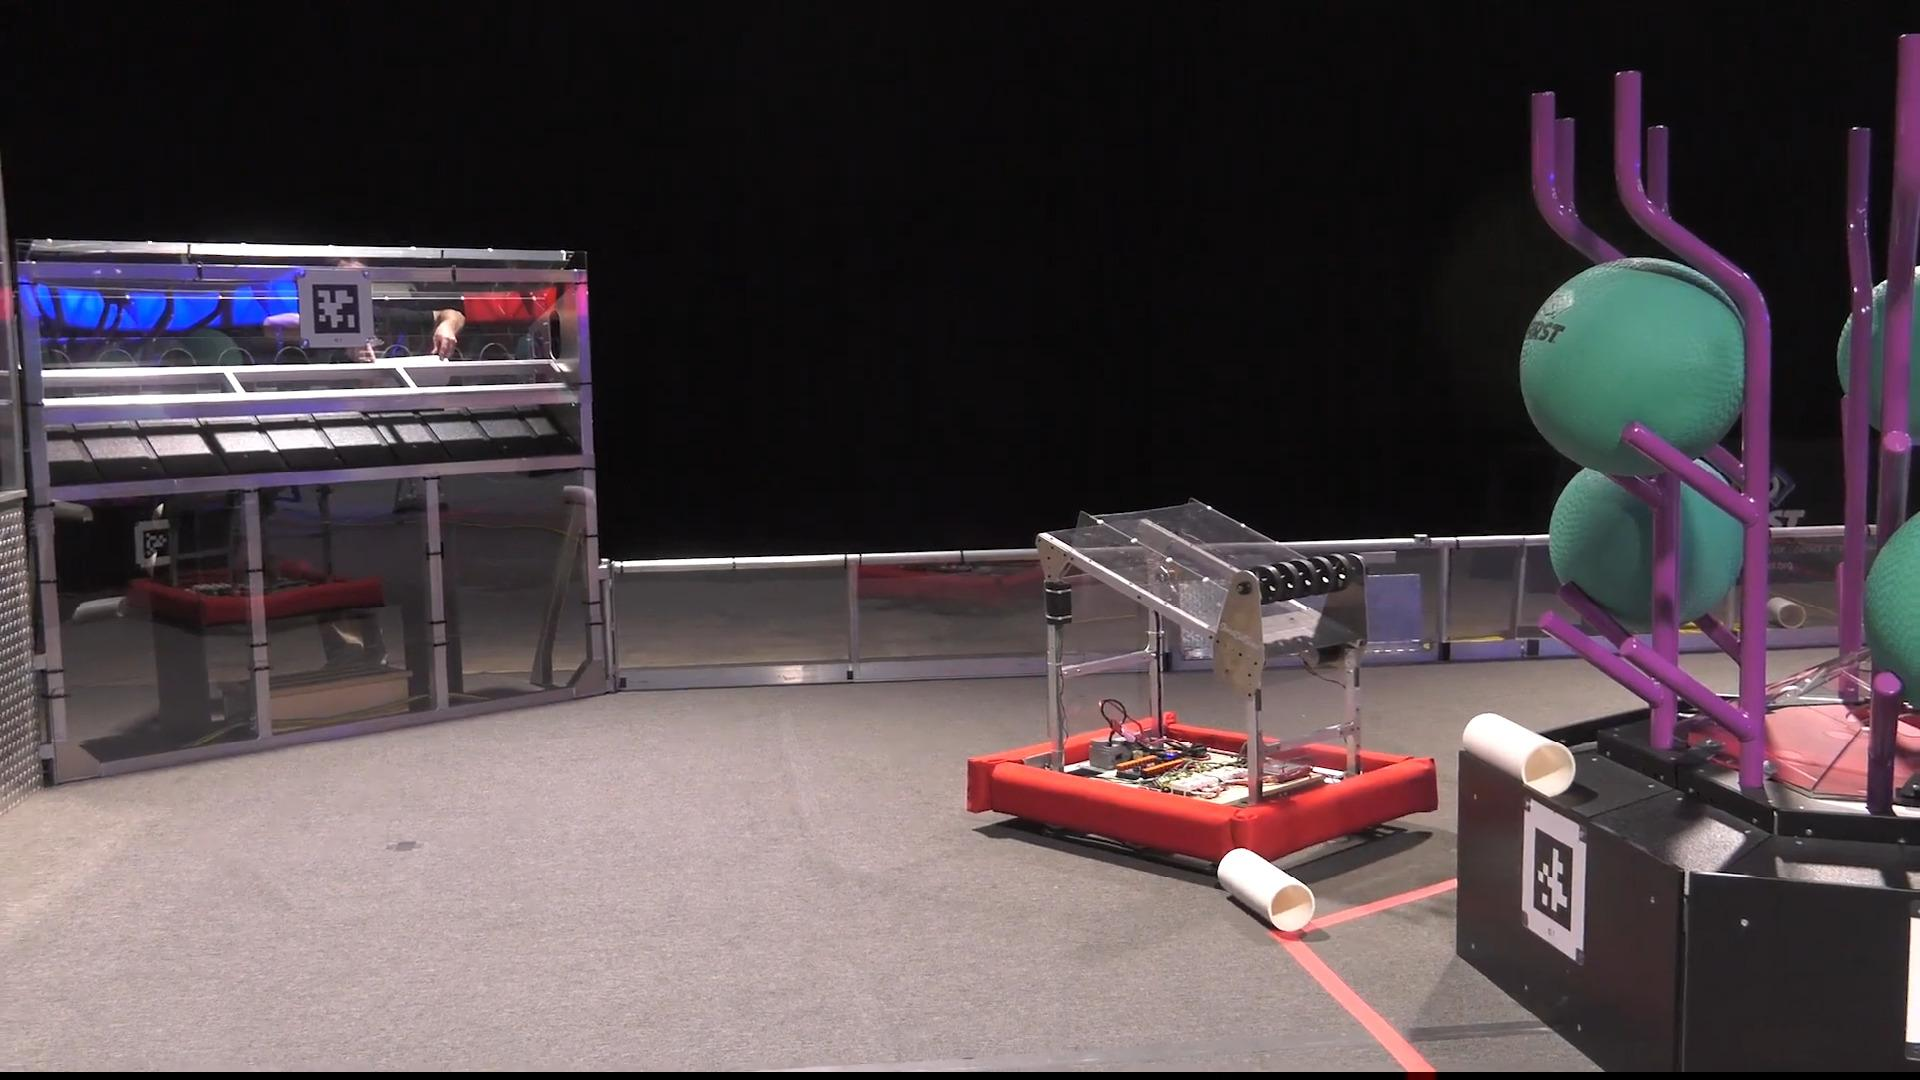coral: (1460, 710, 1577, 798), (1214, 846, 1315, 933)
